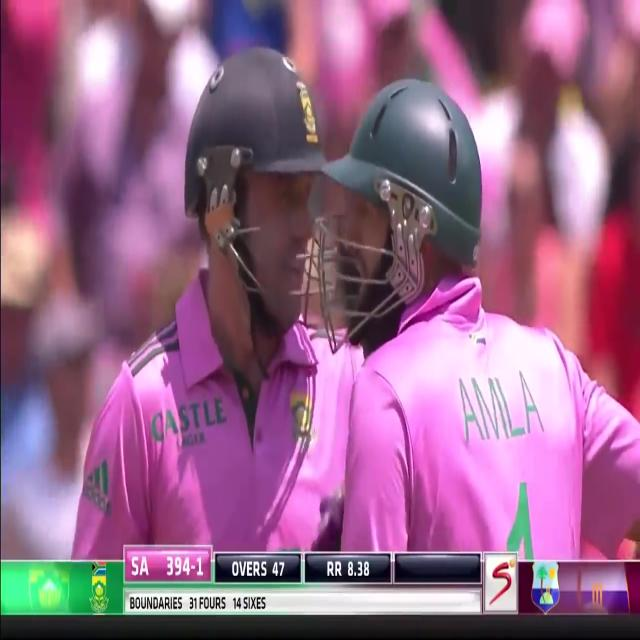Ball: (71, 41, 412, 554), (309, 86, 640, 558)
